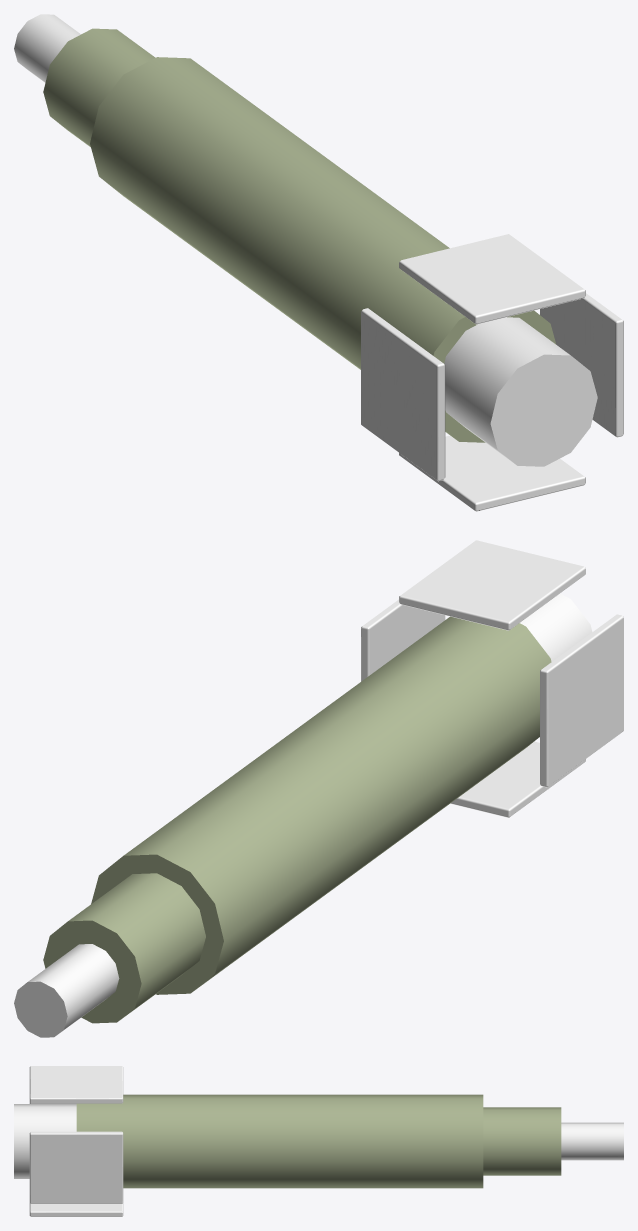
Rendered from rocket.glb.
3 renders of one model, top to bottom at view 1: azimuth 30°, elevation 25°; view 2: azimuth 150°, elevation 25°; view 3: azimuth 270°, elevation 25°, orthographic. The views are drawn at different scales.
Size of the model in its own units: 0.084 by 0.084 by 0.39.
